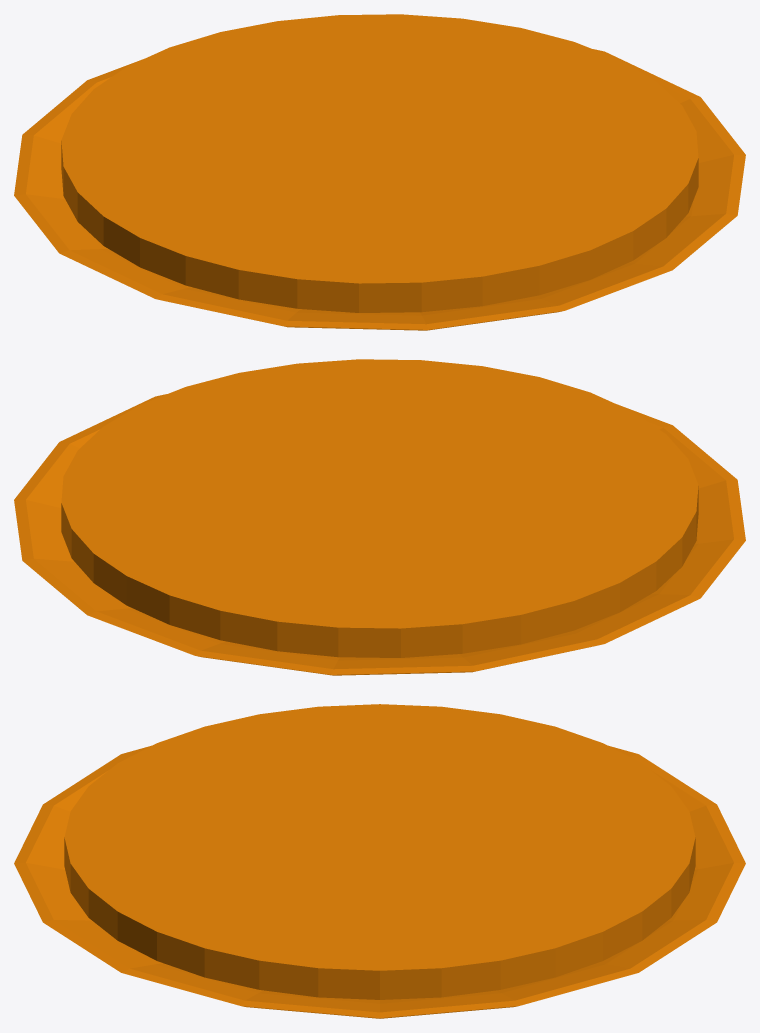
File: pizza_plate_visual.dae
The picture shows the model from 3 angles, top to bottom: view 1: azimuth 30°, elevation 25°; view 2: azimuth 150°, elevation 25°; view 3: azimuth 270°, elevation 25°; orthographic projection.
Visible parts, largest first — view 1: Pizza_Plate_Visual; view 2: Pizza_Plate_Visual; view 3: Pizza_Plate_Visual.
Boxes of the visible parts, x1,y1,x2,y2 form: Pizza_Plate_Visual: (14, 14, 745, 330); Pizza_Plate_Visual: (14, 359, 745, 675); Pizza_Plate_Visual: (14, 704, 745, 1018).
Bounding box in the file's own units: 0.3597 × 0.3597 × 0.0408.
